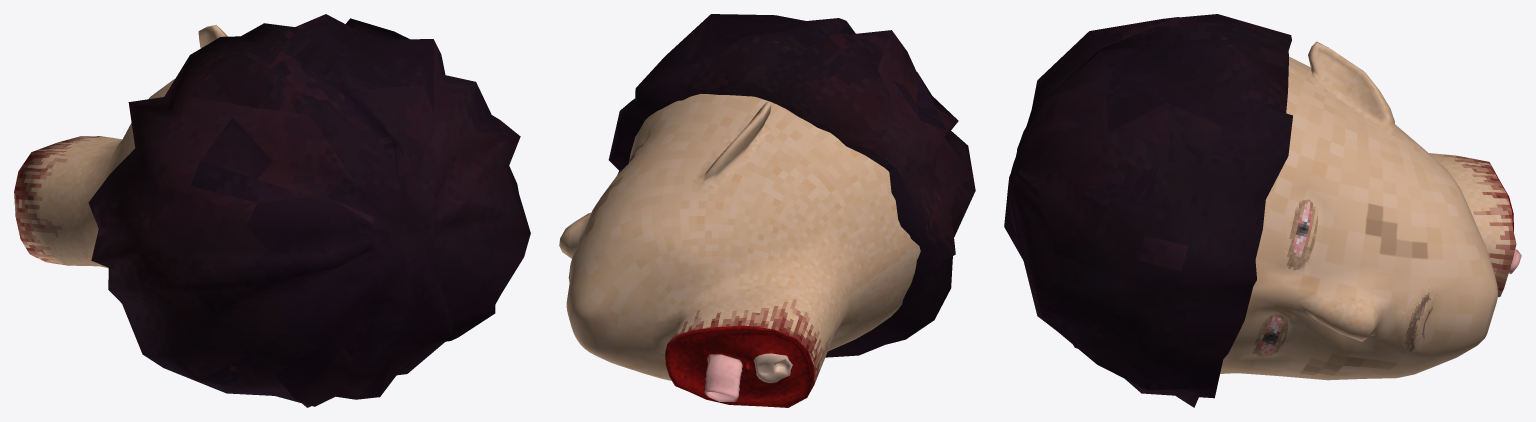
Rendered from Cabesa.fbx.
3 renders of one model, left to right at view 1: azimuth 30°, elevation 25°; view 2: azimuth 150°, elevation 25°; view 3: azimuth 270°, elevation 25°, orthographic. The views are drawn at different scales.
Visible parts, largest first — view 1: Llegue de la barberia bonito y bello, Killo Kabesa; view 2: Killo Kabesa, Llegue de la barberia bonito y bello; view 3: Llegue de la barberia bonito y bello, Killo Kabesa.
Boxes of the visible parts, <box> form: Llegue de la barberia bonito y bello: <box>88,14,530,407</box>; Killo Kabesa: <box>14,25,227,268</box>; Killo Kabesa: <box>559,93,920,407</box>; Llegue de la barberia bonito y bello: <box>608,14,975,357</box>; Llegue de la barberia bonito y bello: <box>1004,14,1292,407</box>; Killo Kabesa: <box>1220,41,1521,380</box>.
Size of the model in its own units: 230 by 200 by 261.
Materials: 2 (2 with a texture image).
